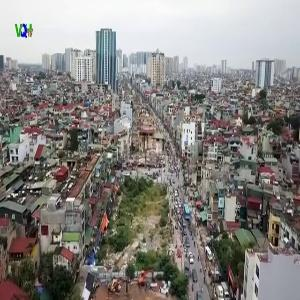drone: (157, 159, 214, 216)
